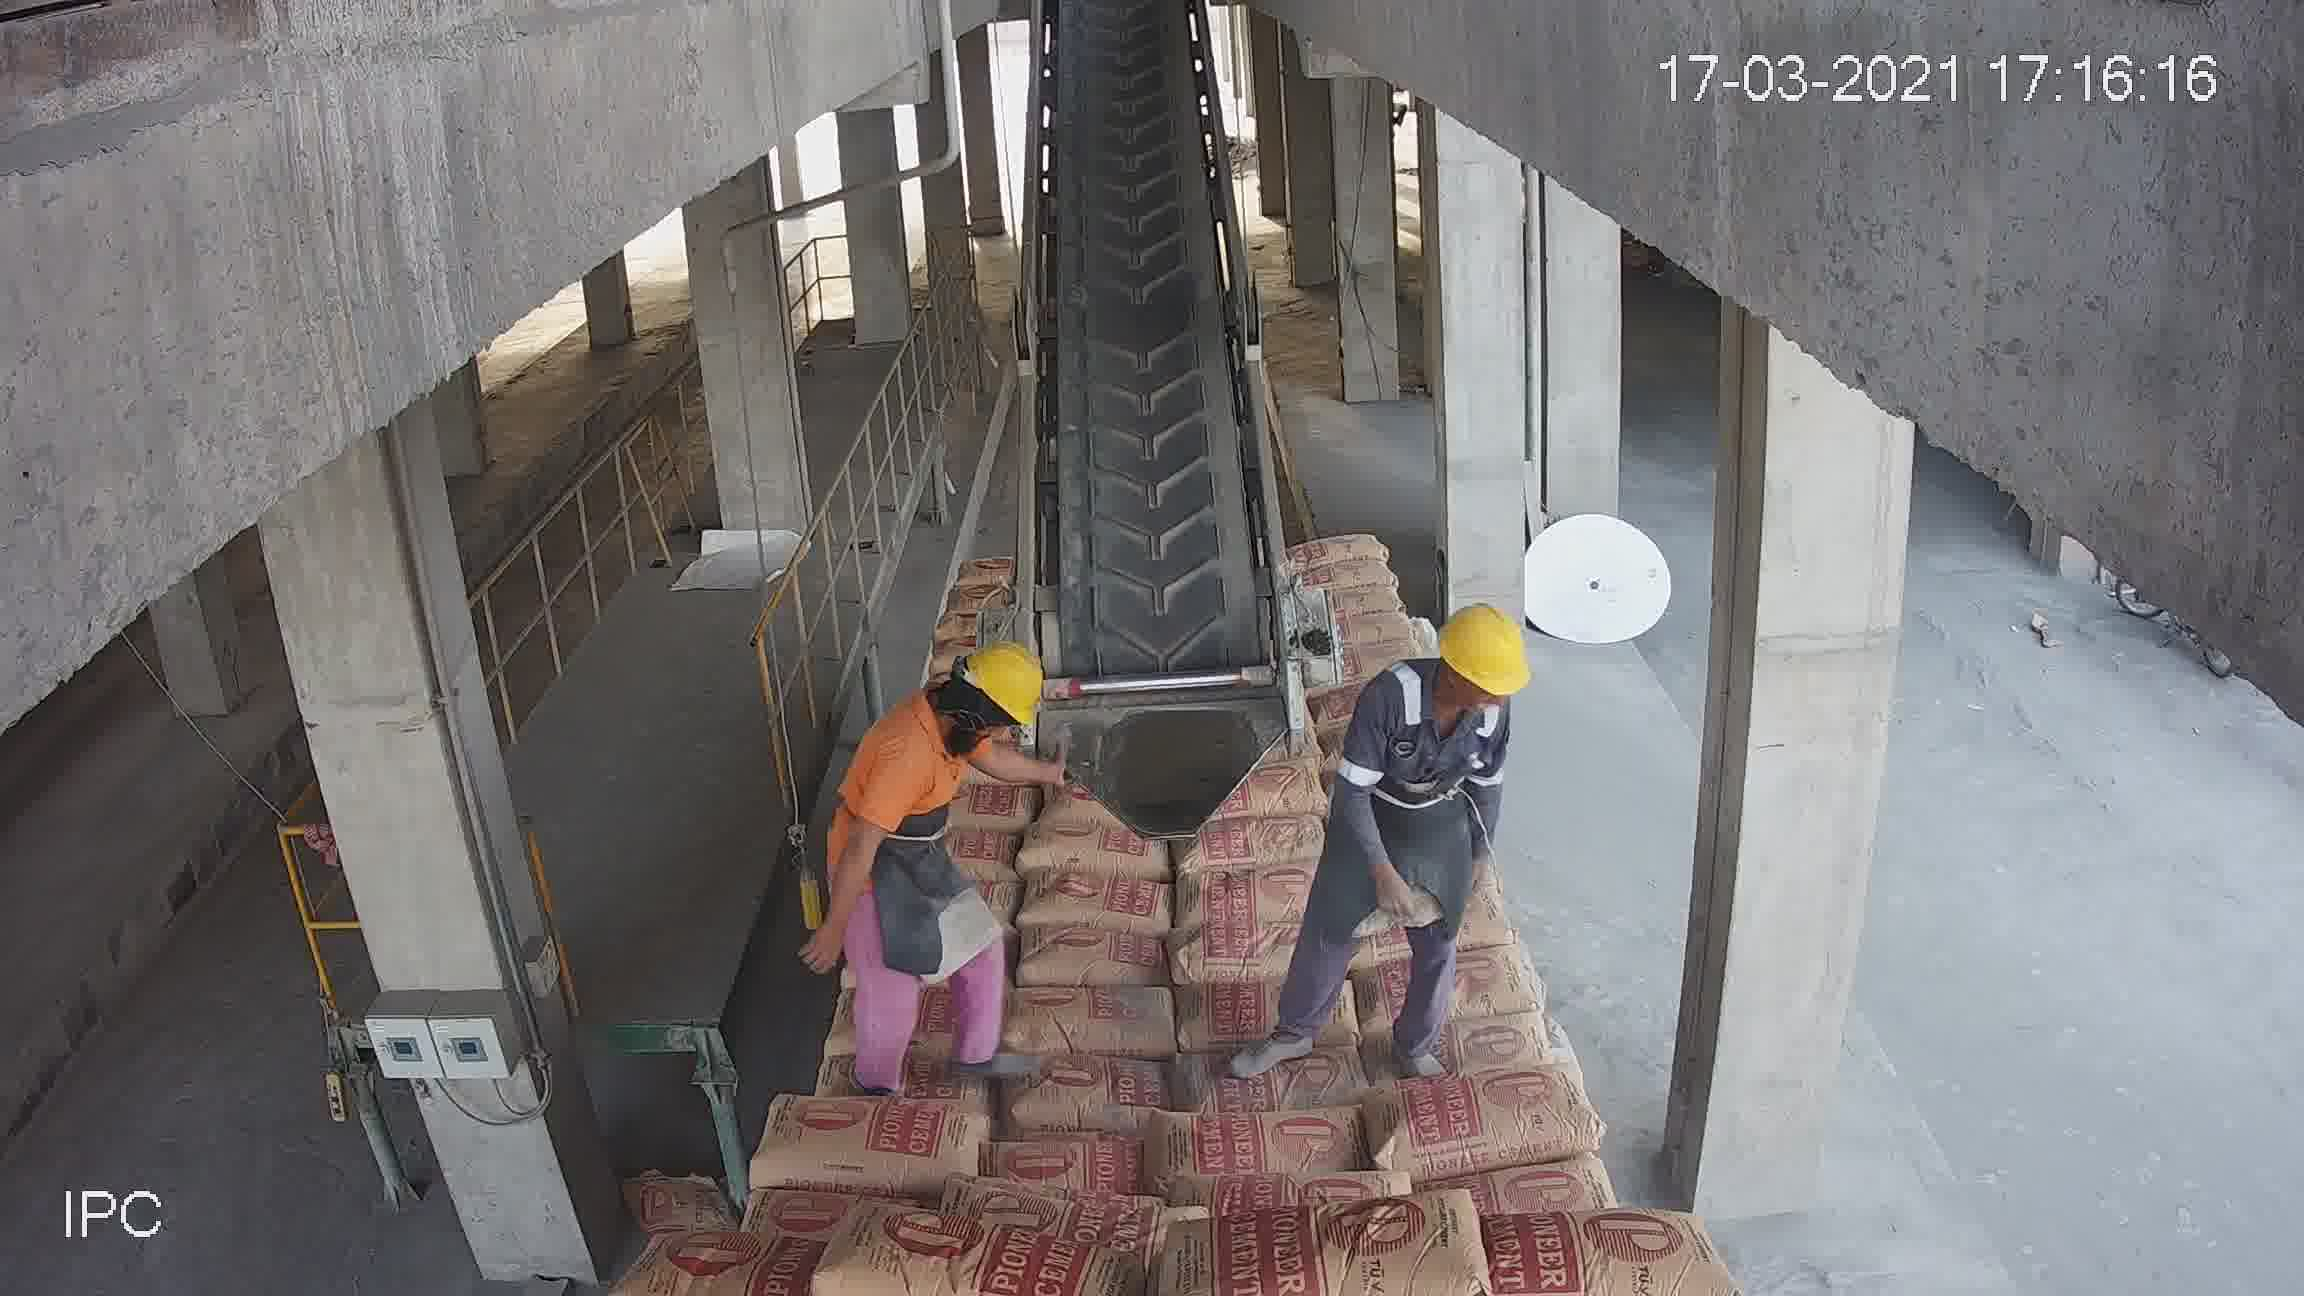bag_h: (794, 1215, 1135, 1294), (750, 1097, 995, 1195), (1150, 1105, 1377, 1199), (1400, 1062, 1597, 1168), (1362, 938, 1546, 1032), (1397, 991, 1552, 1082), (622, 1222, 831, 1290), (1207, 1038, 1385, 1116), (1002, 1059, 1176, 1136), (1155, 905, 1302, 987), (994, 1135, 1166, 1203), (1184, 801, 1329, 878), (1067, 978, 1196, 1060), (1173, 859, 1313, 930), (1021, 929, 1169, 995), (1022, 867, 1177, 930), (1011, 818, 1166, 881), (1280, 525, 1397, 570), (1296, 555, 1397, 593)
belt: (999, 24, 1290, 840)
